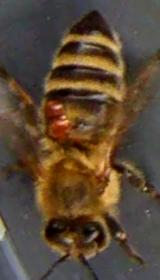varroa_mite: (40, 84, 78, 116), (41, 110, 73, 142)
